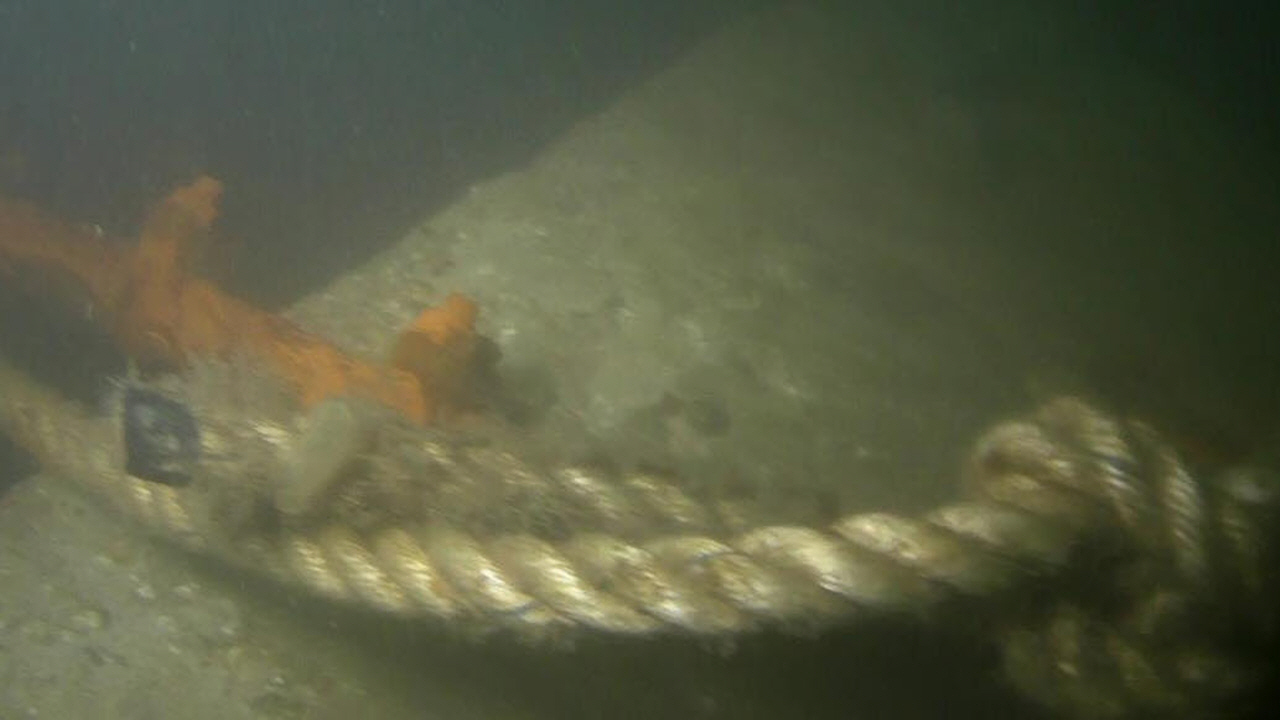bundle of ropes: (0, 363, 1280, 719)
